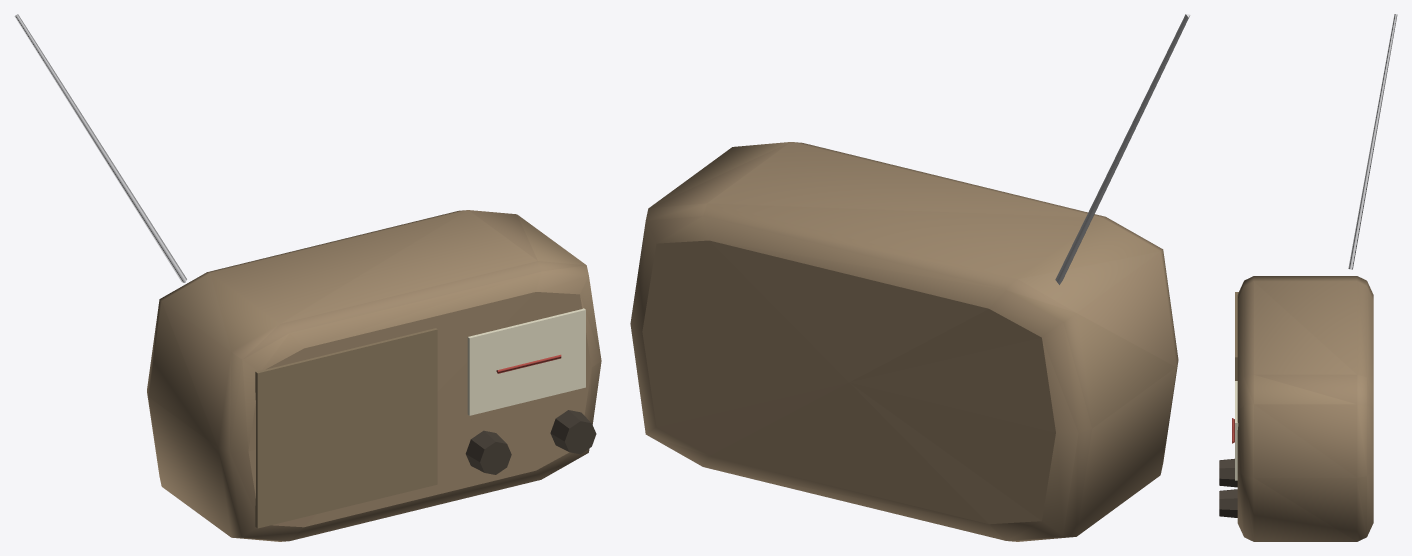
The model's file is garage_radio_a.glb.
The picture shows the model from 3 angles, left to right: view 1: azimuth 30°, elevation 25°; view 2: azimuth 150°, elevation 25°; view 3: azimuth 270°, elevation 25°; orthographic projection. The views are drawn at different scales.
Visible parts, largest first — view 1: body; view 2: body; view 3: body.
Part boxes in pixels (x1,y1,x2,y2): body: (14, 14, 601, 541); body: (630, 14, 1190, 541); body: (1219, 14, 1397, 541).
Bounding box in the file's own units: 0.4611 × 0.4492 × 0.1965.
